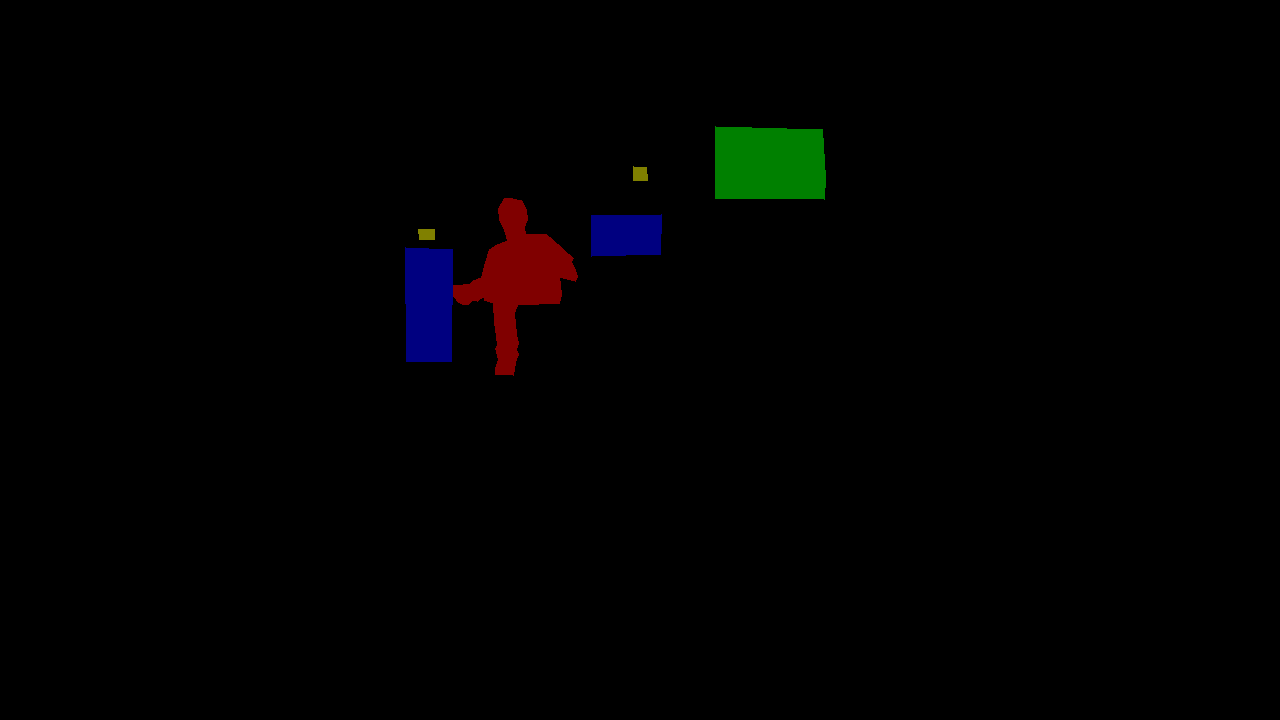door: (405, 247, 452, 361)
person: (446, 198, 577, 375)
sign: (633, 166, 647, 180), (418, 229, 434, 239)
tvmonitor: (715, 126, 825, 199), (591, 214, 661, 256)
